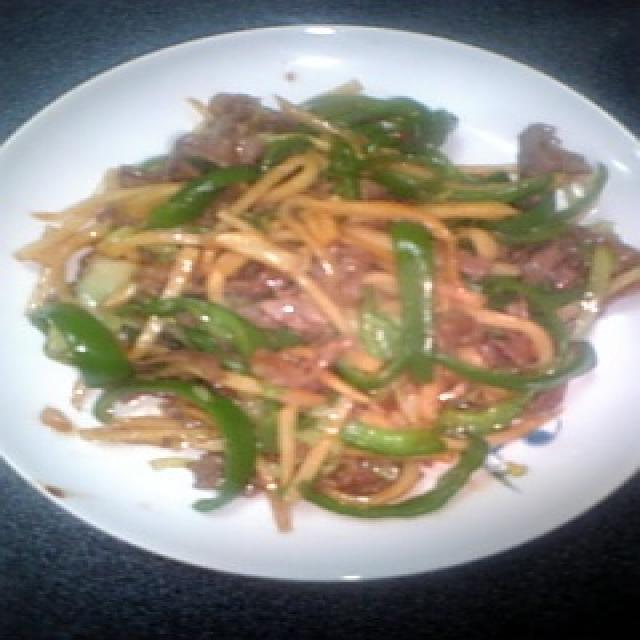牛肉菜式: (0, 20, 640, 592)
